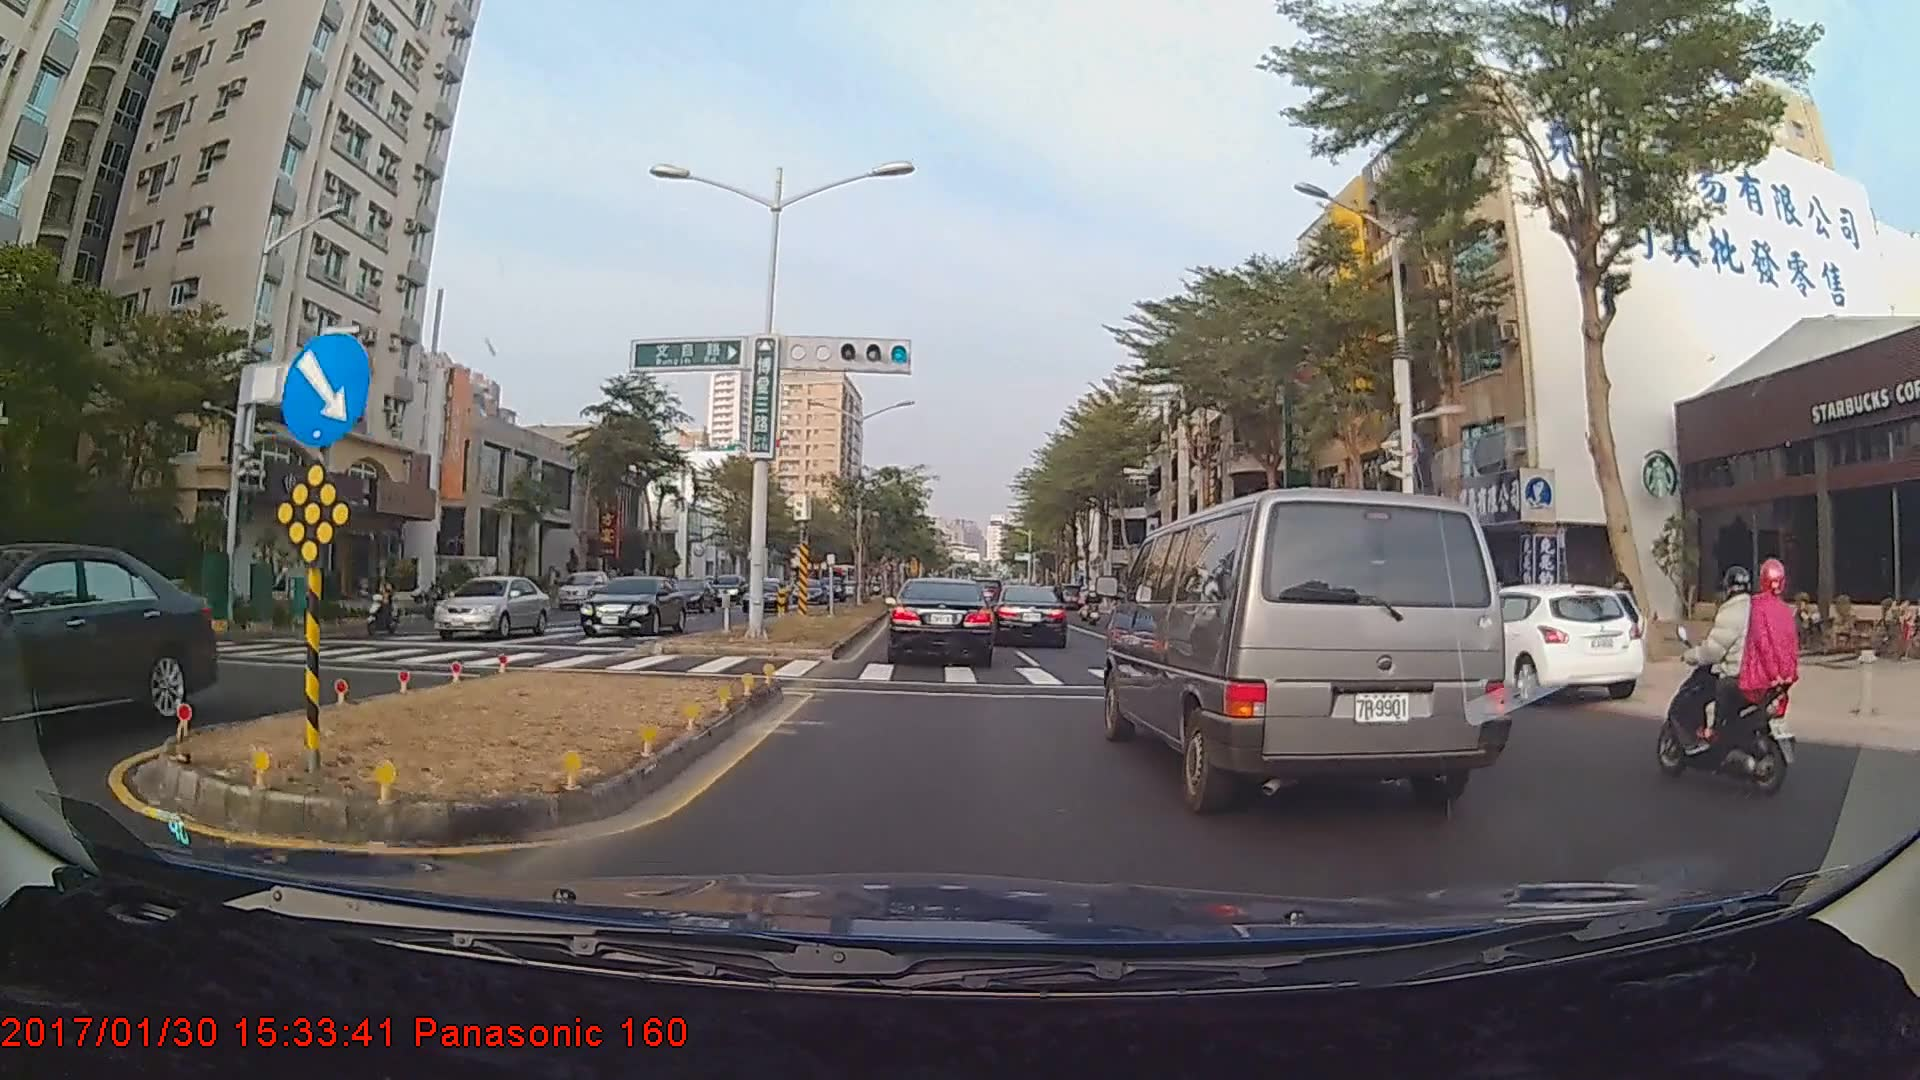rider: (1651, 555, 1806, 782), (363, 570, 408, 635)
vehicle: (1104, 479, 1514, 814), (0, 540, 219, 729), (1502, 579, 1636, 701), (887, 576, 994, 664), (433, 574, 550, 639), (576, 572, 687, 637), (987, 584, 1068, 649), (662, 575, 716, 614), (554, 570, 610, 607)
